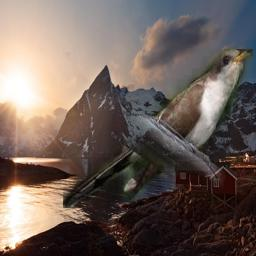Cuckoo: (63, 49, 253, 208)
